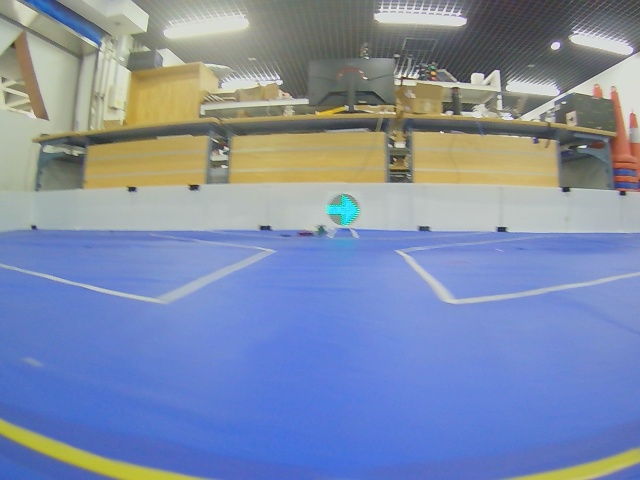right_green: (325, 194, 360, 227)
